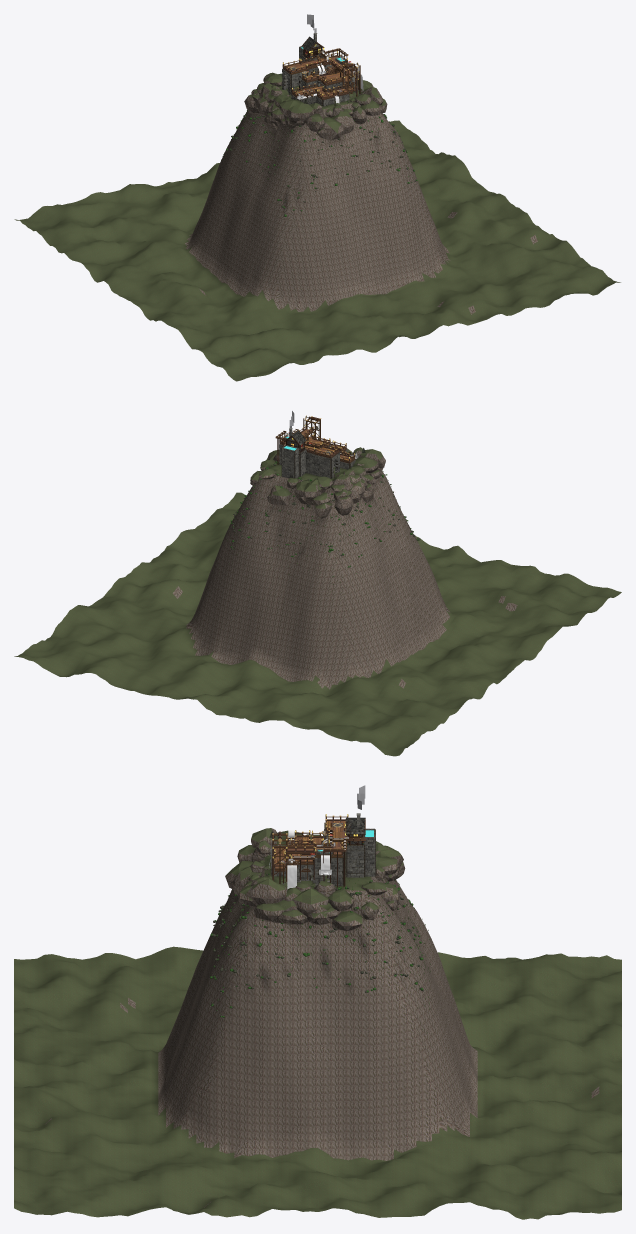
The model's file is level05_mobile.glb.
3 renders of one model, top to bottom at view 1: azimuth 30°, elevation 25°; view 2: azimuth 150°, elevation 25°; view 3: azimuth 270°, elevation 25°, orthographic. The views are drawn at different scales.
Visible parts, largest first — view 1: Terrain_Summit, Static_EN; view 2: Terrain_Summit, Static_EN; view 3: Terrain_Summit, Static_EN.
Part boxes in pixels (x1,y1,x2,y2): Terrain_Summit: (14,72,620,381); Static_EN: (282,14,357,94); Terrain_Summit: (14,447,621,756); Static_EN: (275,411,339,478); Terrain_Summit: (14,828,621,1219); Static_EN: (293,785,375,887).
Size of the model in its own units: 80 by 46.15 by 80.
16 materials, 9 textured.
